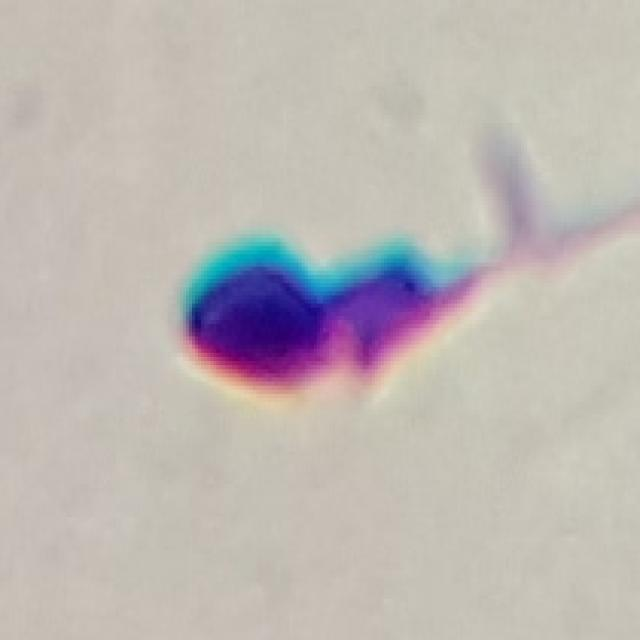abnormal sperm: (177, 137, 579, 396)
